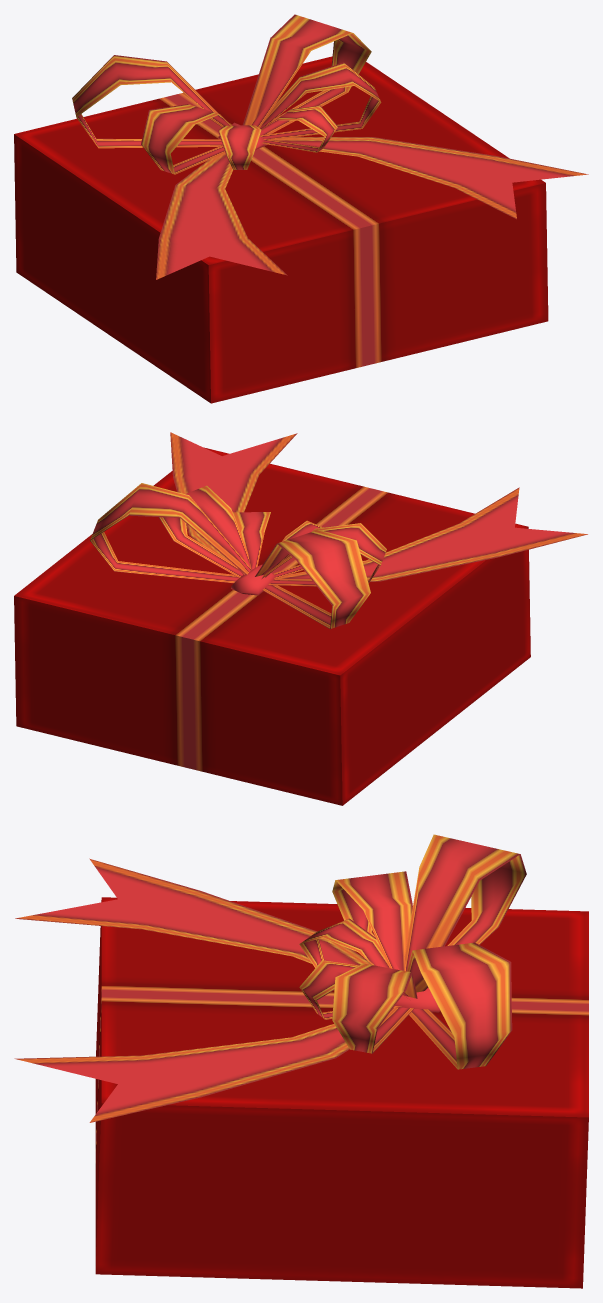
Rendered from Gift8.FBX.
3 renders of one model, top to bottom at view 1: azimuth 30°, elevation 25°; view 2: azimuth 150°, elevation 25°; view 3: azimuth 270°, elevation 25°, orthographic. The views are drawn at different scales.
Parts seen in each view (by area): view 1: Gift8; view 2: Gift8; view 3: Gift8.
Part boxes in pixels (box(x1,y1,x2,y2)): Gift8: box(14, 14, 588, 403); Gift8: box(14, 432, 587, 805); Gift8: box(14, 834, 588, 1288).
Bounding box in the file's own units: 18.18 × 8.84 × 16.7.
Materials: 1 (1 with a texture image).
